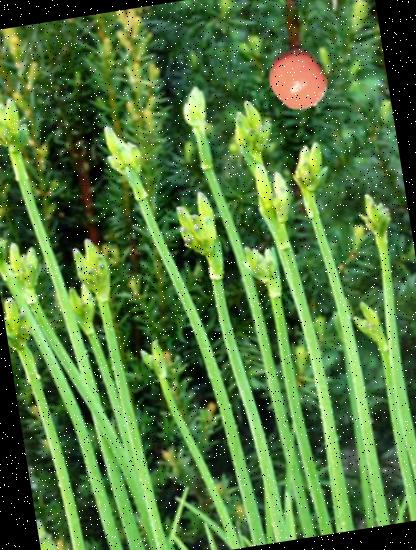Clementine: (263, 44, 335, 116)
